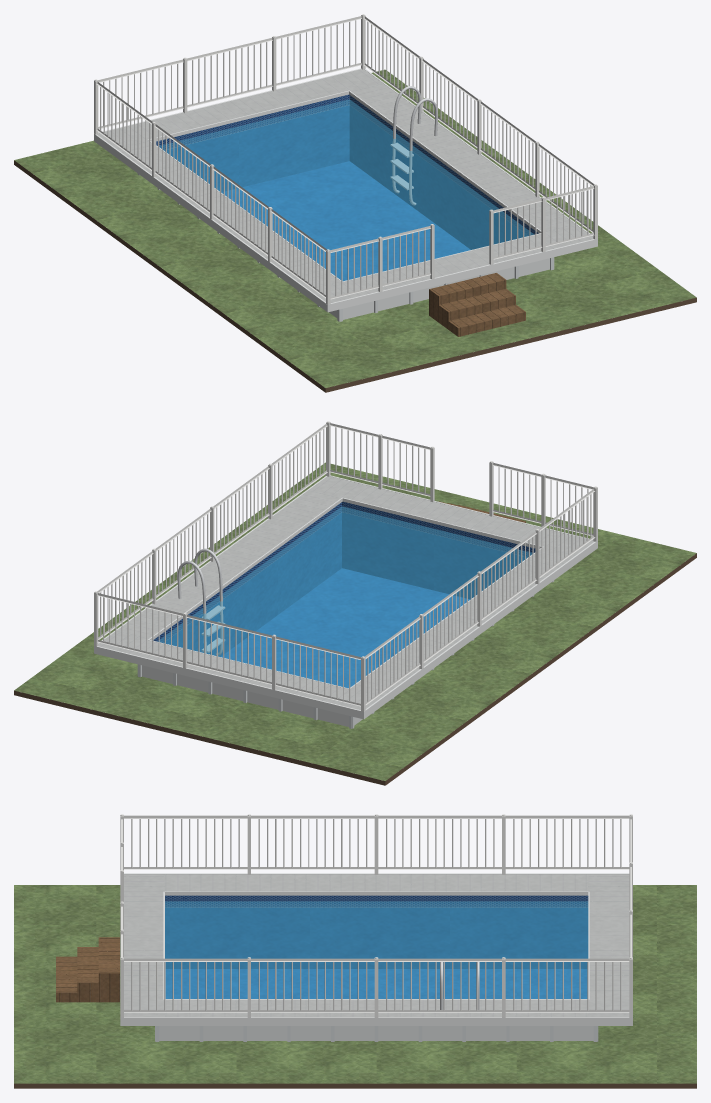
File: kayak-pool-12x20-white-walk-rec-fence.f0407b7cac.glb
3 views of the same model, one above another, from view 1: azimuth 30°, elevation 25°; view 2: azimuth 150°, elevation 25°; view 3: azimuth 270°, elevation 25° (orthographic). The views are drawn at different scales.
Visible parts, largest first — view 1: ground, water, fence, liner_wall, deck, liner_floor, fascia, steps, soil, wall, steel; view 2: ground, water, fence, liner_wall, deck, liner_floor, fascia, soil, wall, steel; view 3: ground, water, liner_wall, deck, fence, liner_floor, fascia, wall, soil, steps, upright.
Boxes of the visible parts, left/top/right/bottom form: ground: left=14, top=69, right=696, bottom=387; water: left=159, top=99, right=533, bottom=280; fence: left=94, top=14, right=597, bottom=304; liner_wall: left=156, top=94, right=538, bottom=249; deck: left=97, top=69, right=593, bottom=302; liner_floor: left=221, top=161, right=470, bottom=280; fascia: left=94, top=68, right=597, bottom=312; steps: left=429, top=273, right=525, bottom=336; soil: left=14, top=160, right=696, bottom=392; wall: left=329, top=258, right=549, bottom=319; steel: left=390, top=86, right=437, bottom=205; ground: left=14, top=462, right=696, bottom=780; water: left=157, top=506, right=532, bottom=688; fence: left=94, top=421, right=597, bottom=711; liner_wall: left=153, top=501, right=535, bottom=656; deck: left=98, top=476, right=593, bottom=710; liner_floor: left=221, top=568, right=470, bottom=688; fascia: left=94, top=475, right=597, bottom=719; soil: left=14, top=553, right=696, bottom=785; wall: left=142, top=665, right=362, bottom=726; steel: left=177, top=548, right=225, bottom=655; ground: left=14, top=885, right=696, bottom=1083; water: left=165, top=901, right=588, bottom=998; liner_wall: left=165, top=895, right=588, bottom=968; deck: left=124, top=874, right=629, bottom=1016; fence: left=120, top=814, right=632, bottom=1017; liner_floor: left=165, top=969, right=587, bottom=998; fascia: left=120, top=873, right=632, bottom=1025; wall: left=159, top=1026, right=593, bottom=1040; soil: left=14, top=1083, right=696, bottom=1088; steps: left=56, top=937, right=119, bottom=1002; upright: left=155, top=1026, right=598, bottom=1041.
Size of the model in its own units: 6.71 by 2.15 by 9.75.
Materials: 13 (5 with a texture image).
